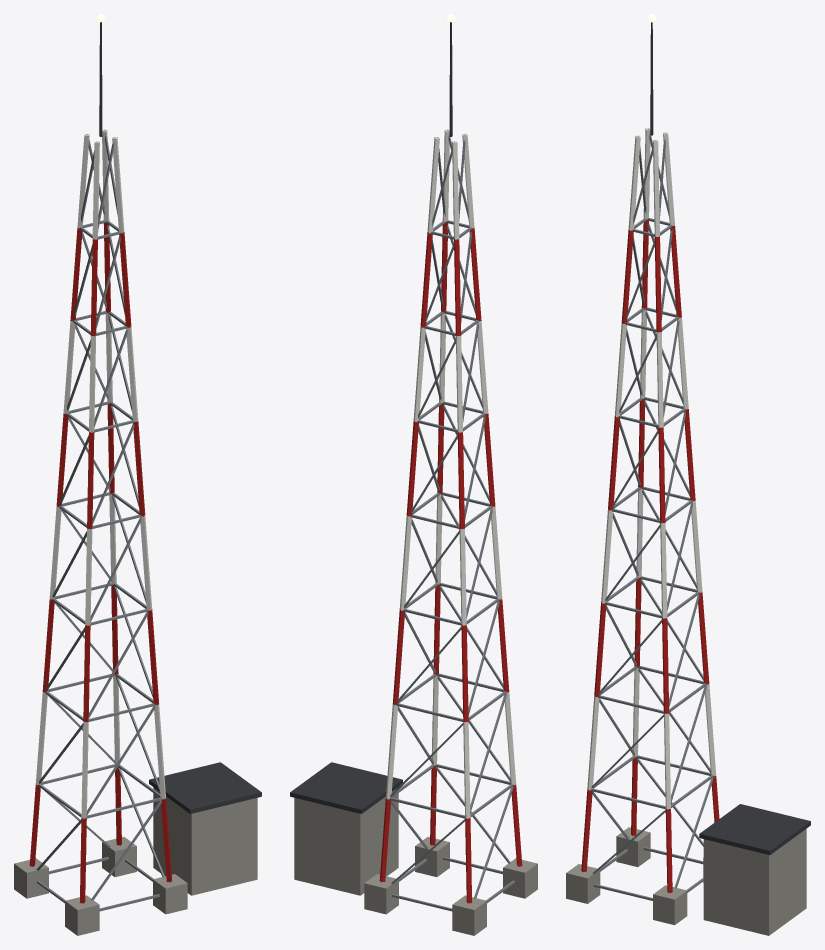
The model's file is radio_mast.glb.
The picture shows the model from 3 angles, left to right: view 1: azimuth 30°, elevation 25°; view 2: azimuth 150°, elevation 25°; view 3: azimuth 330°, elevation 25°; orthographic projection.
Visible parts, largest first — view 1: radio_mast; view 2: radio_mast; view 3: radio_mast.
Boxes of the visible parts, x1,y1,x2,y2 form: radio_mast: [14, 14, 261, 935]; radio_mast: [290, 14, 537, 935]; radio_mast: [566, 14, 810, 935].
Bounding box in the file's own units: 7.1 × 30.75 × 4.
